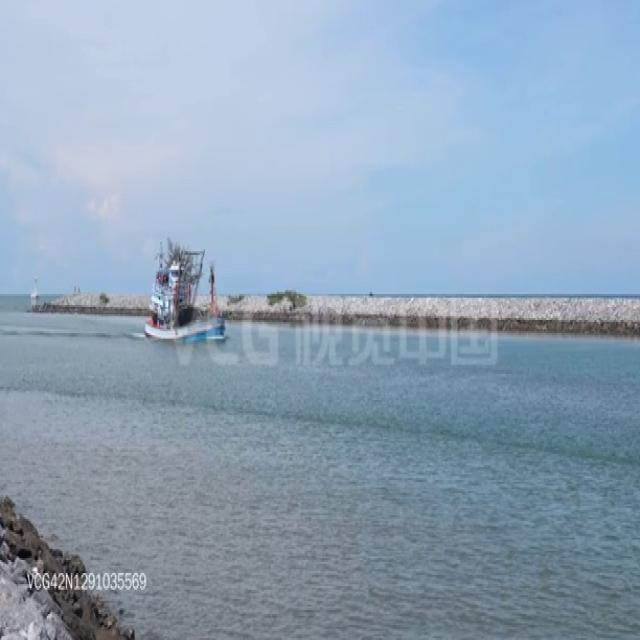fishing boat: (144, 237, 225, 345)
